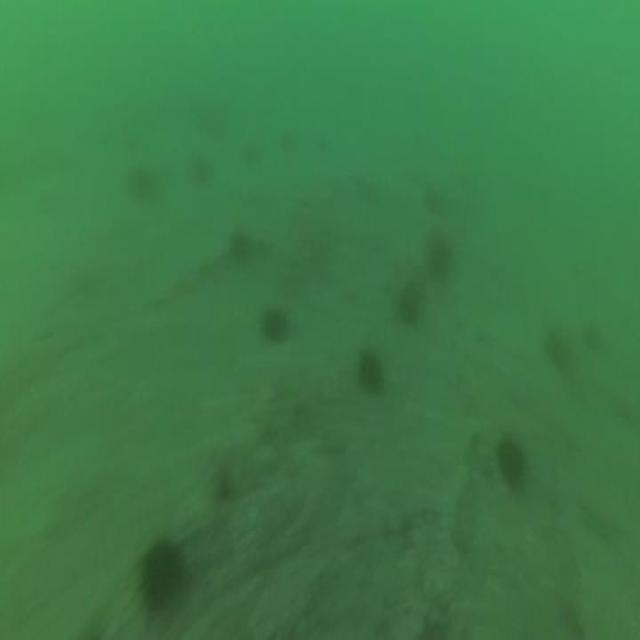echinus: (138, 545, 184, 610), (500, 438, 524, 483), (260, 305, 287, 343), (427, 232, 449, 270), (398, 286, 420, 322), (359, 357, 381, 390), (228, 230, 252, 258)
